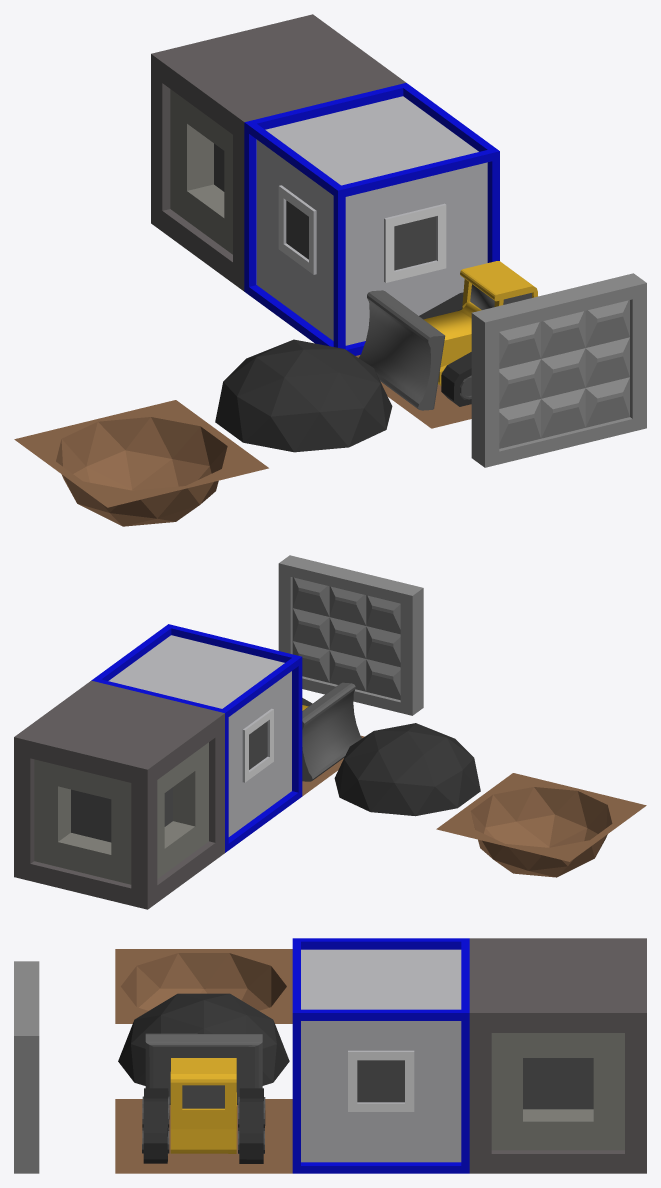
The model's file is DozerTileSet.glb.
3 views of the same model, one above another, from view 1: azimuth 30°, elevation 25°; view 2: azimuth 150°, elevation 25°; view 3: azimuth 270°, elevation 25° (orthographic). The views are drawn at different scales.
Visible parts, largest first — view 1: Сontainer_01, Сontainer_02, Fence, Pit, Heap, Bulldozer, Ground; view 2: Сontainer_02, Сontainer_01, Fence, Pit, Heap, Bulldozer; view 3: Сontainer_01, Сontainer_02, Bulldozer, Pit, Heap, Ground, Fence.
Part boxes in pixels (left/top/right/bottom): Сontainer_01: left=244, top=83, right=499, bottom=355; Сontainer_02: left=151, top=14, right=405, bottom=291; Fence: left=471, top=273, right=646, bottom=467; Pit: left=14, top=400, right=268, bottom=526; Heap: left=215, top=339, right=392, bottom=452; Bulldozer: left=358, top=261, right=537, bottom=410; Ground: left=356, top=355, right=471, bottom=428; Сontainer_02: left=14, top=680, right=224, bottom=909; Сontainer_01: left=91, top=624, right=302, bottom=852; Fence: left=278, top=555, right=423, bottom=715; Pit: left=436, top=773, right=646, bottom=877; Heap: left=334, top=723, right=480, bottom=816; Bulldozer: left=302, top=682, right=362, bottom=781; Сontainer_01: left=292, top=938, right=469, bottom=1173; Сontainer_02: left=469, top=938, right=646, bottom=1173; Bulldozer: left=142, top=1033, right=265, bottom=1163; Pit: left=115, top=949, right=292, bottom=1023; Heap: left=118, top=993, right=289, bottom=1085; Ground: left=115, top=1099, right=292, bottom=1173; Fence: left=14, top=961, right=39, bottom=1173.
Bounding box in the file's own units: 21 × 9.67 × 25.
